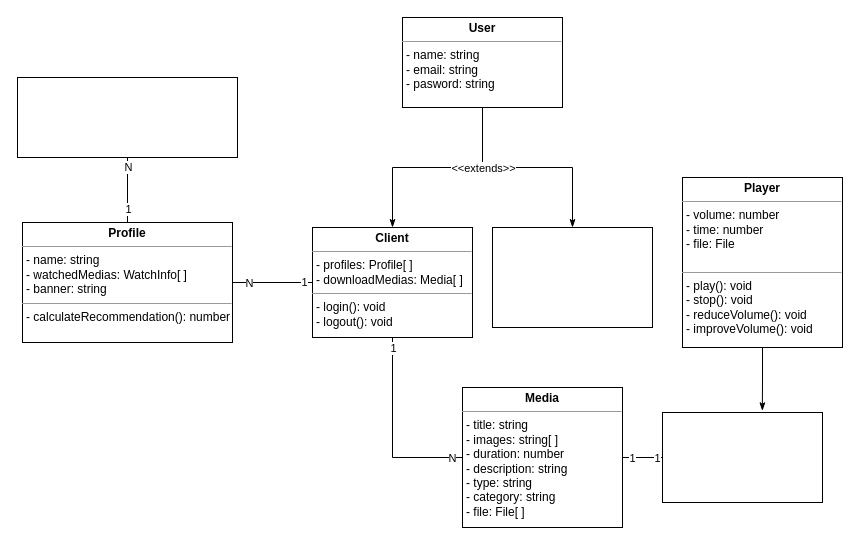
The diagram is 860 pixels wide and 545 high, and some of its shapes have lost their labels. Each missing label, with the box of its shape:
Admin - addMedia(): void - removeMedia(): void: (492, 226, 652, 328)
File - filename: string - extension: string[ ] - data: string[ ]: (662, 412, 822, 502)
WatchInfo - watchTime: number - media: Media - client: Client: (16, 76, 238, 158)
